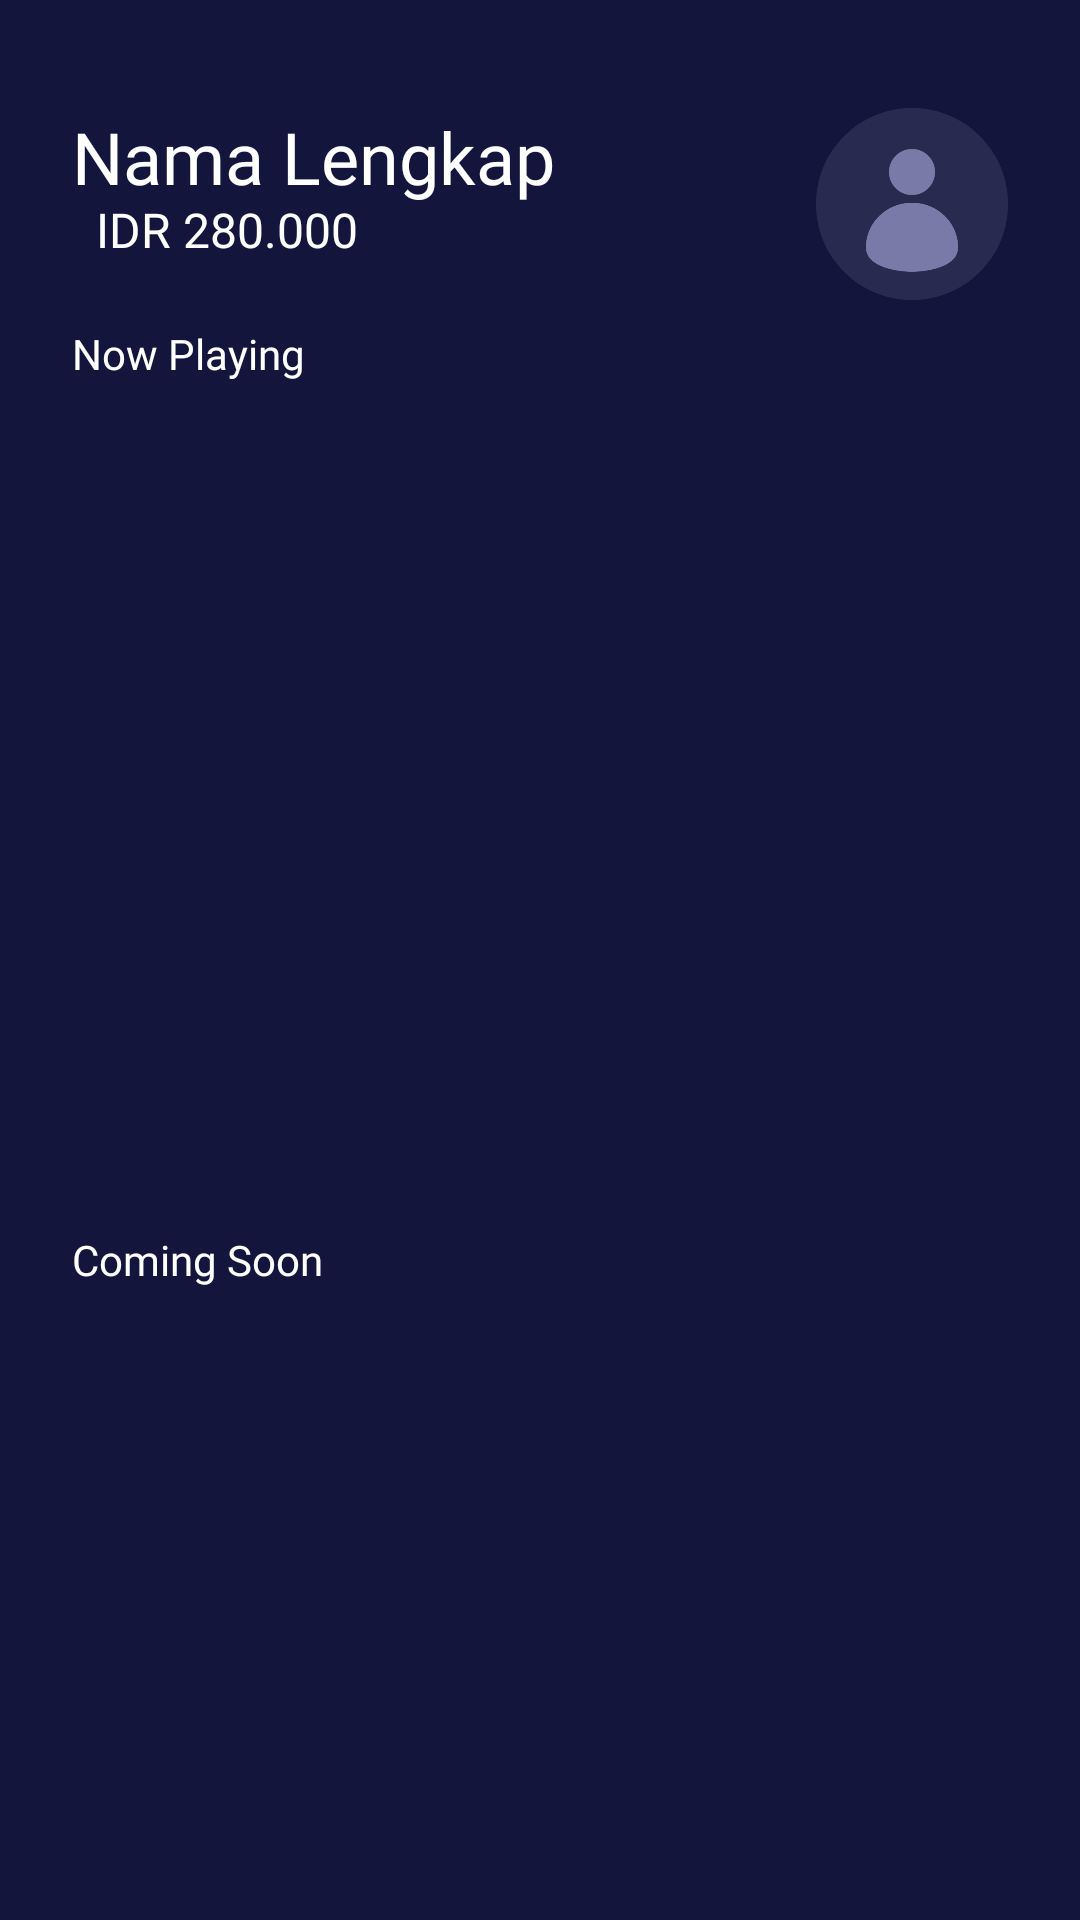

Locate icon controls on the screen. Image size 1080 × 1920, boxes as (x1, y1, x2, y2).
user pic: (866, 149, 958, 272)
